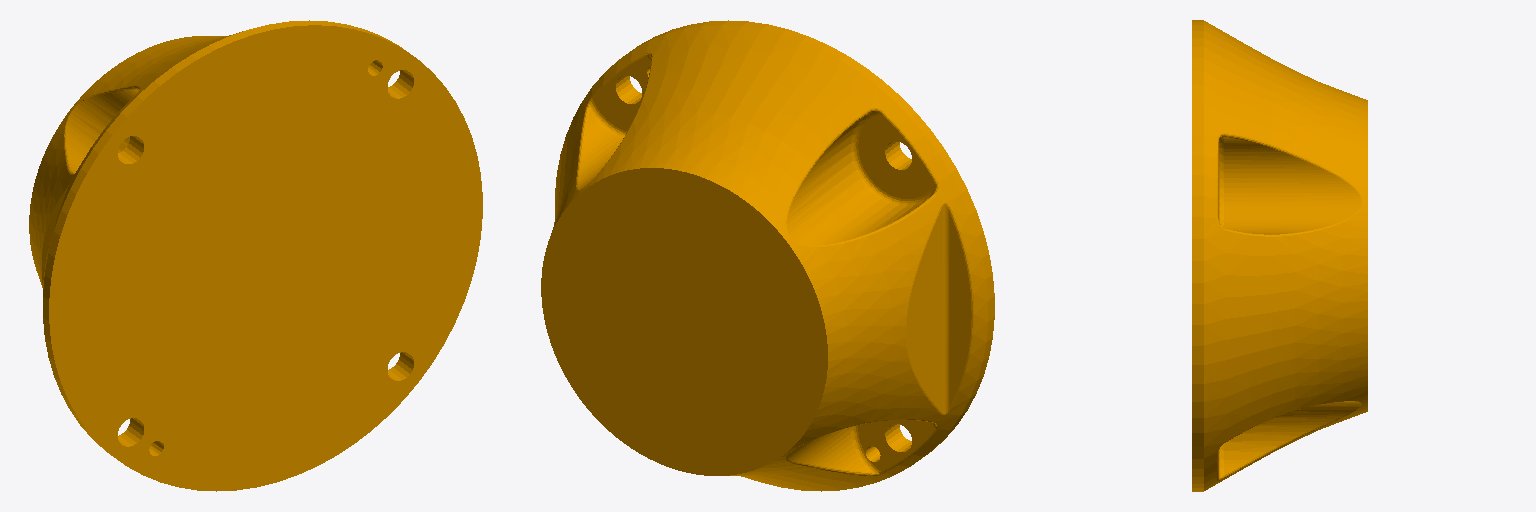
URDF robot description (tm5-900):
<?xml version="1.0" ?>
<robot name="tm5-900">

  <link name="link_0">
    <visual>
      <geometry>
        <mesh filename="package://tmr_description/meshes/tm5-900/visual/tm5_base.obj"/>
      </geometry>
    </visual>
    <collision>
      <geometry>
        <mesh filename="package://tmr_description/meshes/tm5-900/collision/tm5_base_c.stl"/>
      </geometry>
    </collision>
  </link>

  <joint name="joint_1" type="revolute">
    <parent link="link_0"/>
    <child link="link_1"/>
    <origin xyz="0 0 0.1452" rpy="0 0 0"/>
    <axis xyz="0 0 1"/>
    <limit effort="100.0" lower="-3.14" upper="3.14" velocity="1.0"/>
  </joint>

  <link name="link_1">
    <visual>
      <geometry>
        <mesh filename="package://tmr_description/meshes/tm5-900/visual/tmr_400w_01.obj"/>
      </geometry>
    </visual>
    <collision>
      <geometry>
        <mesh filename="package://tmr_description/meshes/tm5-900/collision/tmr_400w_01_c.stl"/>
      </geometry>
    </collision>
  </link>

  <joint name="joint_2" type="revolute">
    <parent link="link_1"/>
    <child link="link_2"/>
    <origin xyz="0 0 0" rpy="-1.570796327 -1.570796327 0"/>
    <axis xyz="0 0 1"/>
    <limit effort="100.0" lower="-3.14" upper="3.14" velocity="1.0"/>
  </joint>

  <link name="link_2">
    <visual>
      <geometry>
        <mesh filename="package://tmr_description/meshes/tm5-900/visual/tm5-900_arm1.obj"/>
      </geometry>
    </visual>
    <collision>
      <geometry>
        <mesh filename="package://tmr_description/meshes/tm5-900/collision/tm5-900_arm1_c.stl"/>
      </geometry>
    </collision>
  </link>

  <joint name="joint_3" type="revolute">
    <parent link="link_2"/>
    <child link="link_3"/>
    <origin  xyz="0.429 0 0" rpy="0 0 0"/>
    <axis xyz="0 0 1"/>
    <limit effort="100.0" lower="-3.14" upper="3.14" velocity="1.0"/>
  </joint>

  <link name="link_3">
    <visual>
      <geometry>
        <mesh filename="package://tmr_description/meshes/tm5-900/visual/tm5-900_arm2.obj"/>
      </geometry>
    </visual>
    <collision>
      <geometry>
        <mesh filename="package://tmr_description/meshes/tm5-900/collision/tm5-900_arm2_c.stl"/>
      </geometry>
    </collision>
  </link>

  <joint name="joint_4" type="revolute">
    <parent link="link_3"/>
    <child link="link_4"/>
    <origin xyz="0.4115 0 -0.1223" rpy="0 0 1.570796327"/>
    <axis xyz="0 0 1"/>
    <limit effort="10.0" lower="-3.14" upper="3.14" velocity="1.0"/>
  </joint>

  <link name="link_4">
    <visual>
      <geometry>
        <mesh filename="package://tmr_description/meshes/tm5-900/visual/tmr_100w_01.obj"/>
      </geometry>
    </visual>
    <collision>
      <geometry>
        <mesh filename="package://tmr_description/meshes/tm5-900/collision/tmr_100w_01_c.stl"/>
      </geometry>
    </collision>
  </link>

  <joint name="joint_5" type="revolute">
    <parent link="link_4"/>
    <child link="link_5"/>
    <origin xyz="0 -0.106 0" rpy="1.570796327 0 0"/>
    <axis xyz="0 0 1"/>
    <limit effort="10.0" lower="-3.14" upper="3.14" velocity="1.0"/>
  </joint>

  <link name="link_5">
    <visual>
      <geometry>
        <mesh filename="package://tmr_description/meshes/tm5-900/visual/tmr_100w_02.obj"/>
      </geometry>
    </visual>
    <collision>
      <geometry>
        <mesh filename="package://tmr_description/meshes/tm5-900/collision/tmr_100w_02_c.stl"/>
      </geometry>
    </collision>
  </link>

  <joint name="joint_6" type="revolute">
    <parent link="link_5"/>
    <child link="link_6"/>
    <origin xyz="0 -0.11315 0" rpy="1.570796327 0 0"/>
    <axis xyz="0 0 1"/>
    <limit effort="10.0" lower="-3.14" upper="3.14" velocity="1.0"/>
  </joint>

  <link name="link_6">
    <visual>
      <geometry>
        <mesh filename="package://tmr_description/meshes/tm5-900/visual/tmr_ee.obj"/>
      </geometry>
    </visual>
    <collision>
      <geometry>
        <mesh filename="package://tmr_description/meshes/tm5-900/collision/tmr_ee_c.stl"/>
      </geometry>
    </collision>
  </link>

  <link name="base" />
  <joint name="base_fixed_joint" type="fixed">
    <parent link="base"/>
    <child link="link_0"/>
    <origin xyz="0 0 0" rpy="0 0 0"/>
  </joint>

  <link name="flange"/>
  <joint name="flange_fixed_joint" type="fixed">
    <parent link="link_6"/>
    <child link="flange"/>
    <origin xyz="0 0 0" rpy="0 0 0"/>
  </joint>

</robot>

--- Facts derived from the render (not from the file) ---
Views: 3 orthographic renders of the robot side by side, from view 1: azimuth 30°, elevation 25°; view 2: azimuth 150°, elevation 25°; view 3: azimuth 270°, elevation 25°.
Model tm5-900 with 9 links and 8 joints (6 revolute, 2 fixed), rooted at base, posed every joint at zero.
Links seen in each view (by area): view 1: link_0; view 2: link_0; view 3: link_0.
Link boxes in pixels (x1,y1,x2,y2): link_0: (29,20,482,491); link_0: (541,20,994,491); link_0: (1192,20,1367,491).
Bounding box of the posed robot: 0.1768 × 0.066 × 0.1768 m (x, y, z).
Meshes: 7 distinct files referenced, 1 mesh visuals loaded (1 OBJ); not drawn: 6 (reference not matched to a file when rendering).